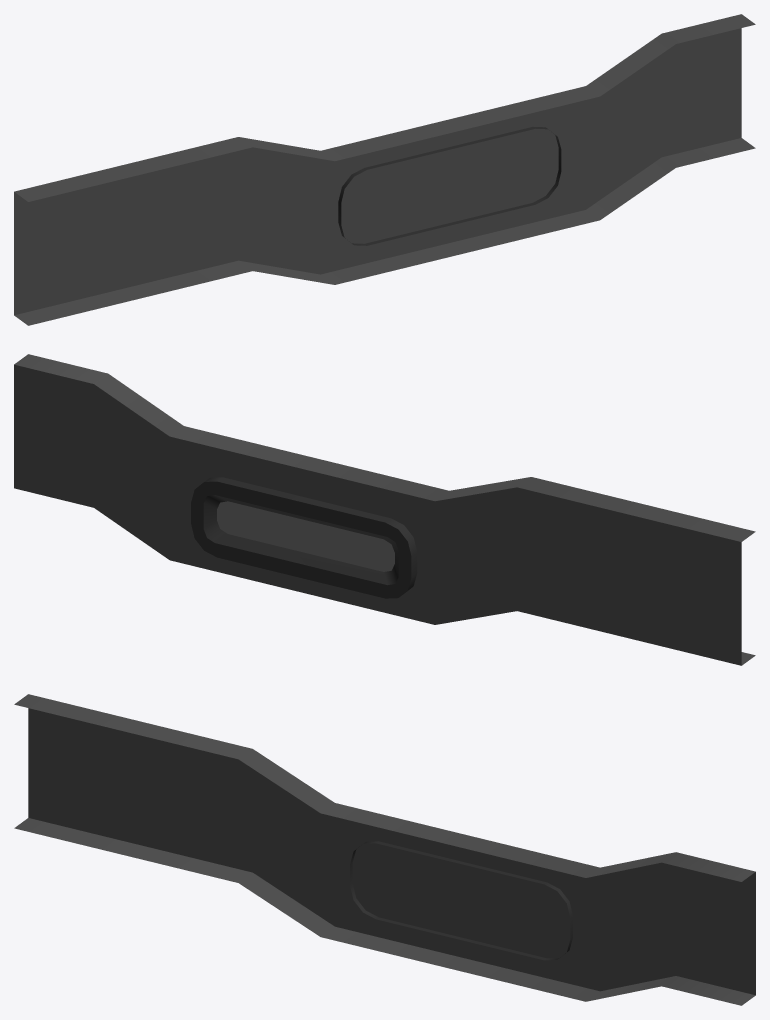
The model's file is SM_wall_front_028.fbx.
3 renders of one model, top to bottom at view 1: azimuth 30°, elevation 25°; view 2: azimuth 150°, elevation 25°; view 3: azimuth 330°, elevation 25°, orthographic.
Parts seen in each view (by area): view 1: SM_wall_front_028; view 2: SM_wall_front_028; view 3: SM_wall_front_028.
Boxes of the visible parts, x1=… form: SM_wall_front_028: x1=14, y1=14, x2=755, y2=325; SM_wall_front_028: x1=14, y1=354, x2=755, y2=665; SM_wall_front_028: x1=14, y1=694, x2=755, y2=1005.
Size of the model in its own units: 300 by 62.14 by 14.38.
2 materials, 2 textured.
